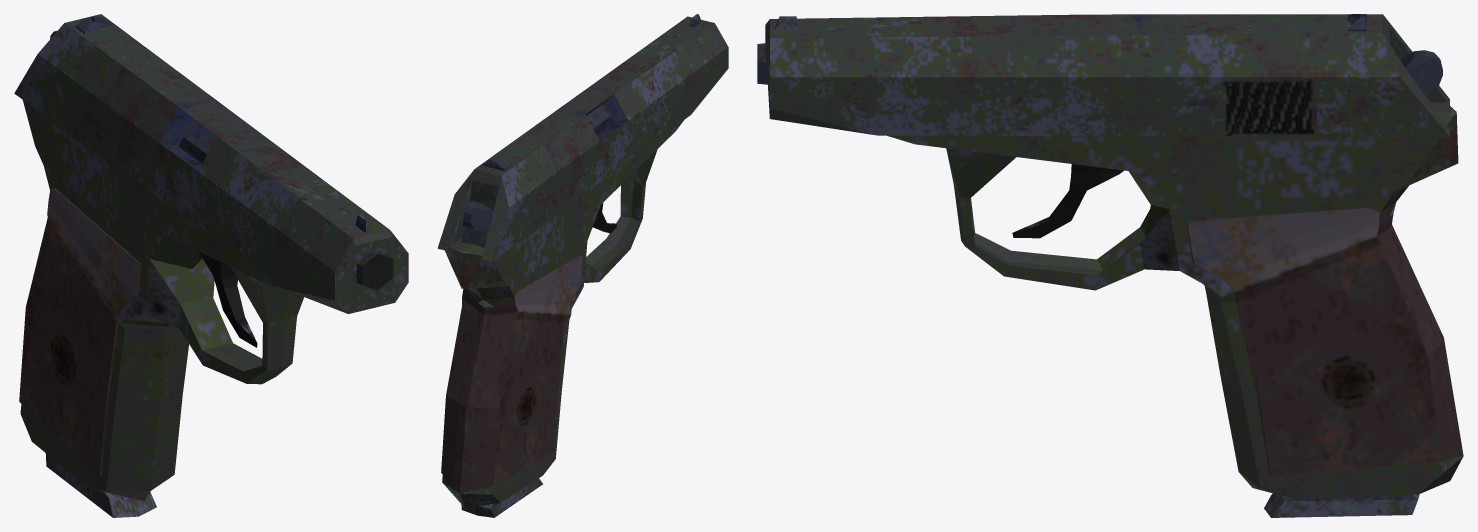
The picture shows the model from 3 angles, left to right: view 1: azimuth 30°, elevation 25°; view 2: azimuth 150°, elevation 25°; view 3: azimuth 270°, elevation 25°; orthographic projection. The views are drawn at different scales.
Visible parts, largest first — view 1: PM, Slide, MagFull; view 2: PM, Slide, MagFull; view 3: PM, Slide, MagFull.
Boxes of the visible parts, box(x1,y1,x2,y2) form: PM: box(19, 30, 393, 500); Slide: box(14, 14, 408, 313); MagFull: box(45, 453, 156, 517); PM: box(441, 103, 683, 507); Slide: box(437, 14, 728, 261); MagFull: box(461, 478, 542, 517); PM: box(757, 43, 1463, 499); Slide: box(765, 14, 1449, 137); MagFull: box(1264, 493, 1419, 517).
Size of the model in its own units: 1.86 by 10.79 by 14.02.
